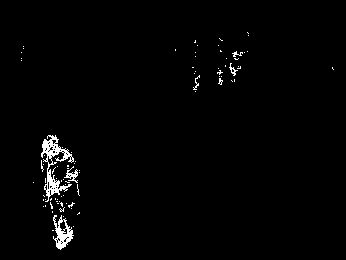person: (36, 133, 80, 252)
